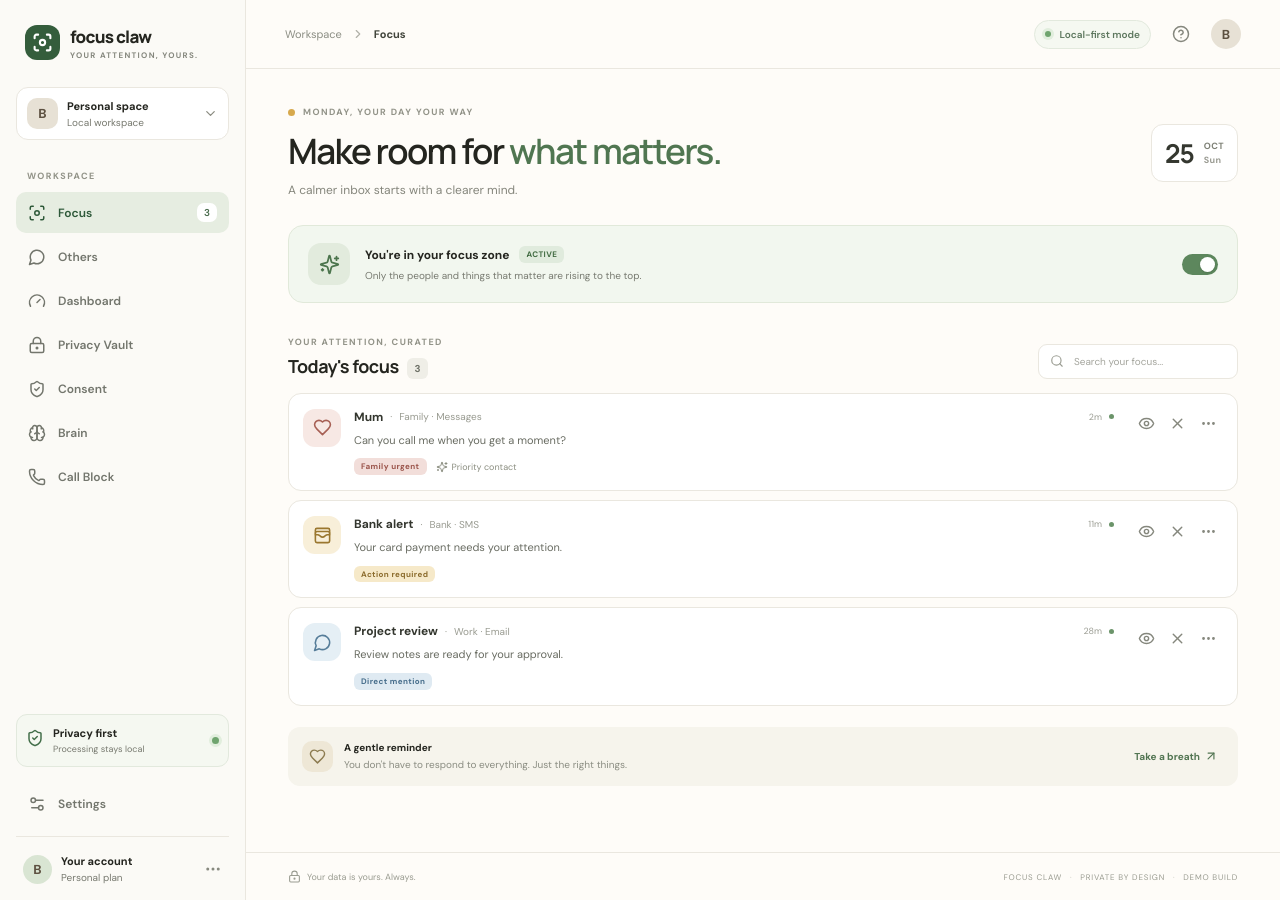
Focus Claw demo › navigates to consent and exposes opt-in controls
Step 1. Click the button "Consent" → (122, 389), box [16,369,229,409]
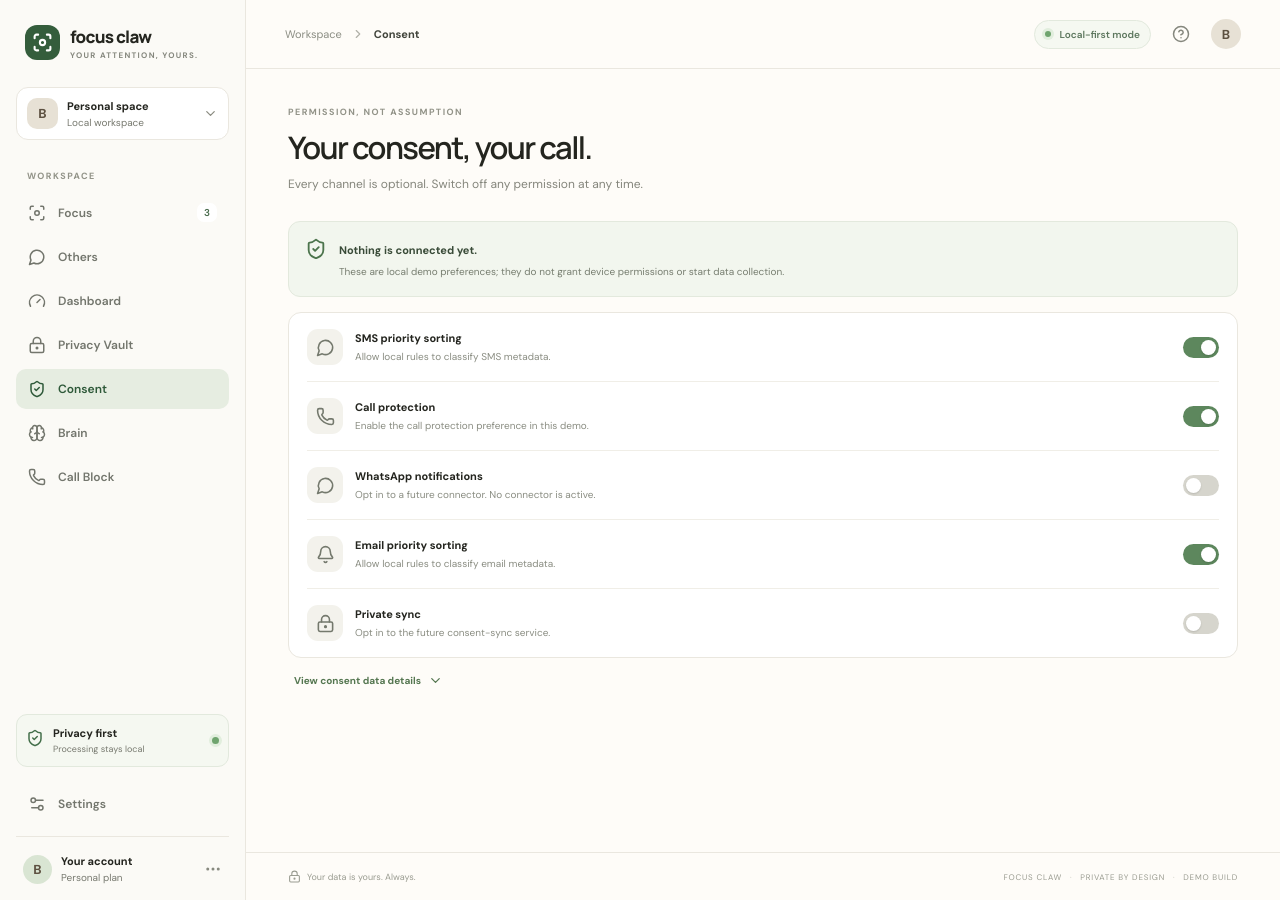
Expected: the heading "Your consent, your call." is shown, [288,126,592,168]
